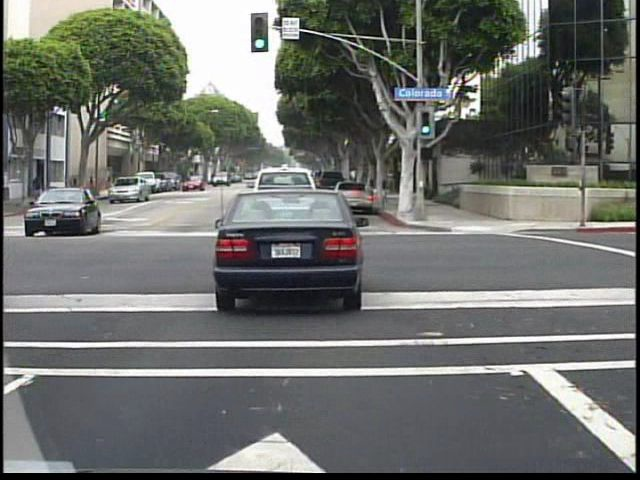person: (32, 172, 47, 200)
